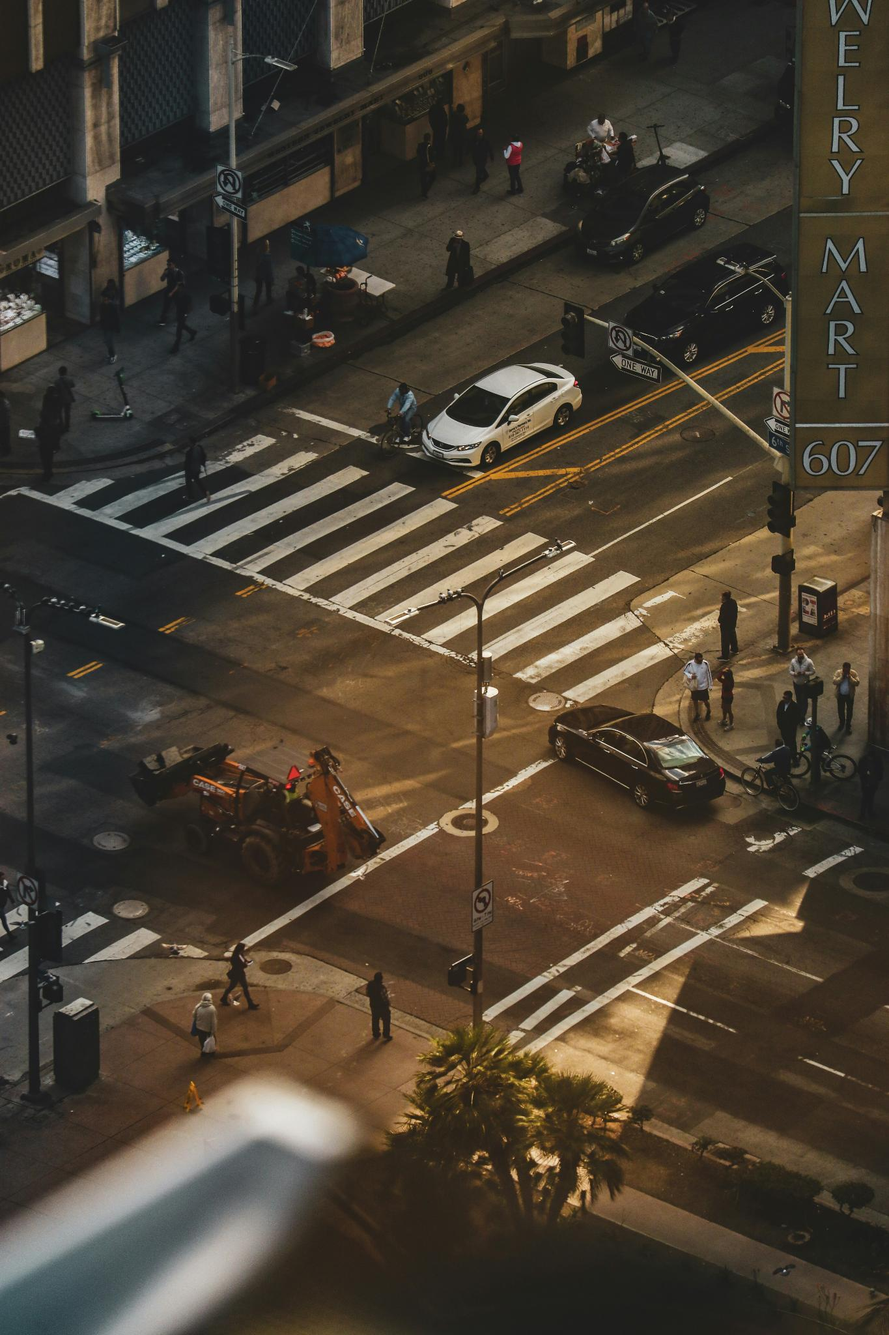car: (547, 713, 725, 830), (419, 364, 582, 473), (646, 245, 785, 367), (584, 171, 715, 266)
pedestrian: (36, 369, 74, 491), (222, 942, 257, 1008), (683, 653, 712, 725), (367, 972, 394, 1047), (442, 228, 474, 291), (101, 279, 124, 364), (192, 987, 217, 1057), (388, 383, 418, 440), (720, 588, 741, 669), (174, 282, 198, 349), (471, 122, 493, 194), (418, 119, 437, 201), (835, 663, 856, 736), (777, 690, 799, 756), (448, 102, 467, 174), (255, 239, 273, 311), (720, 663, 737, 730), (505, 140, 524, 197), (164, 260, 180, 325), (617, 133, 638, 178), (585, 113, 615, 140)
